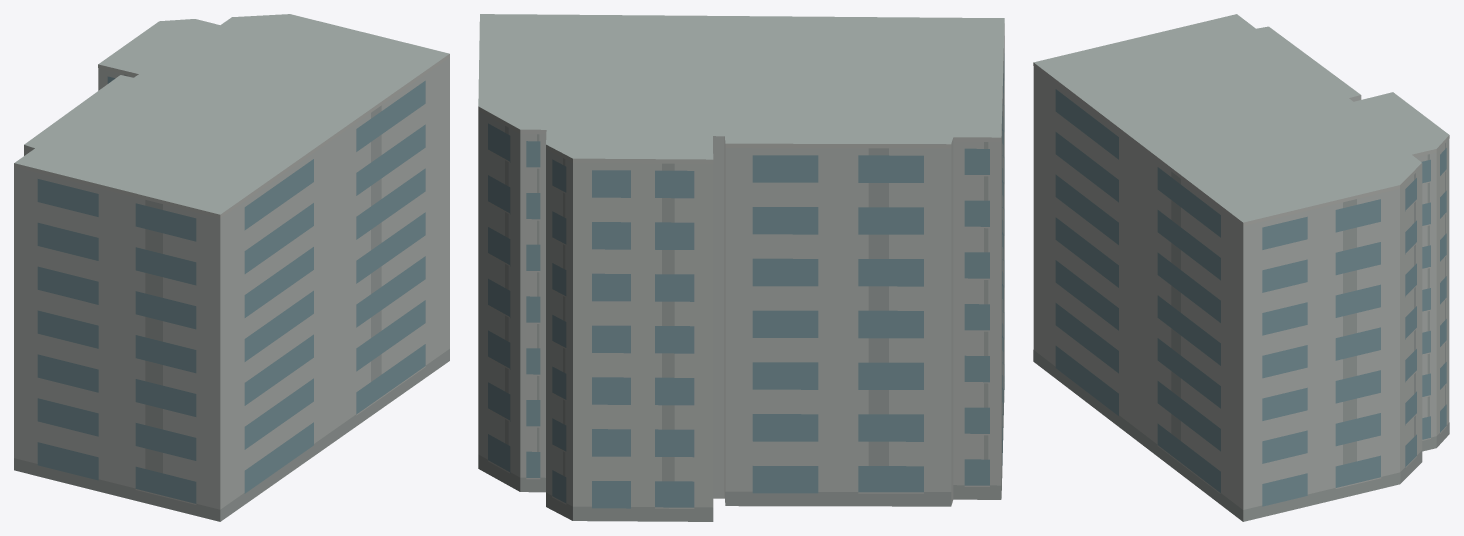
The model's file is survey-upis-32840902.glb.
3 views of the same model, side by side, from view 1: azimuth 30°, elevation 25°; view 2: azimuth 150°, elevation 25°; view 3: azimuth 270°, elevation 25° (orthographic). The views are drawn at different scales.
Parts seen in each view (by area): view 1: survey-upis-32840902.tmp; view 2: survey-upis-32840902.tmp; view 3: survey-upis-32840902.tmp.
Part boxes in pixels (x1,y1,x2,y2): survey-upis-32840902.tmp: [14, 14, 449, 521]; survey-upis-32840902.tmp: [478, 14, 1004, 521]; survey-upis-32840902.tmp: [1033, 14, 1449, 521].
Size of the model in its own units: 29.76 by 19.9 by 25.08.
